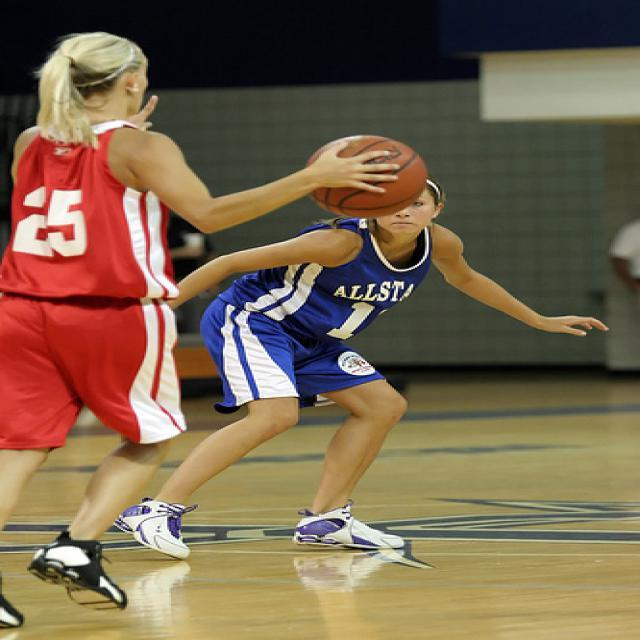basketball: (304, 134, 428, 218)
